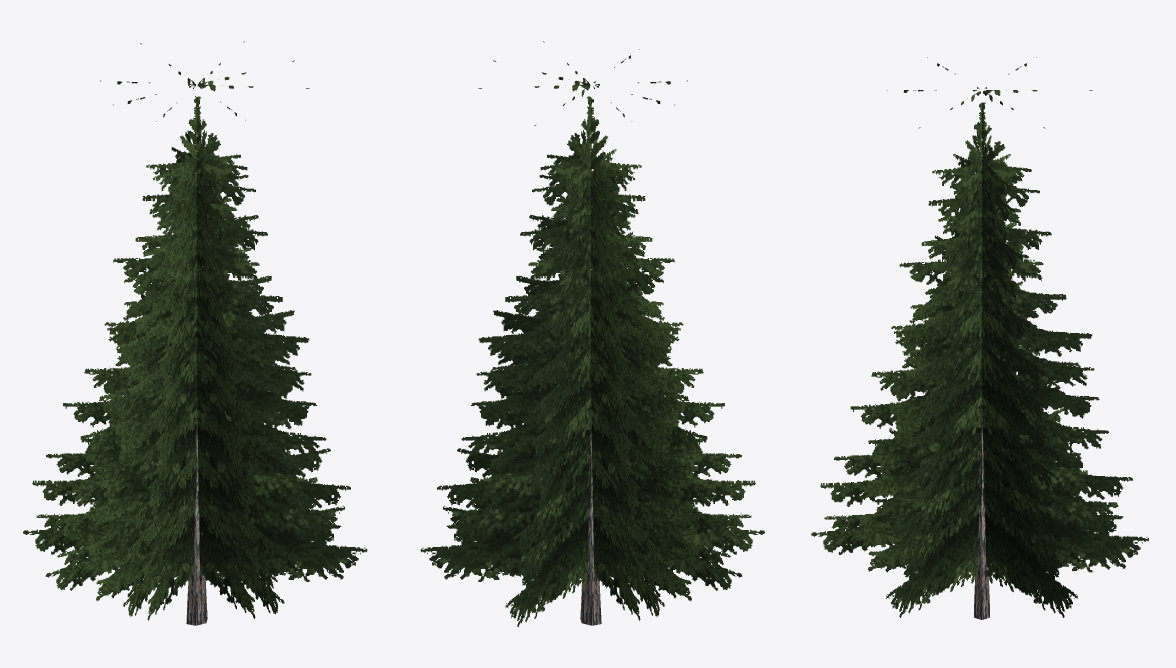
Rendered from small_tree.obj.
The picture shows the model from 3 angles, left to right: view 1: azimuth 30°, elevation 25°; view 2: azimuth 150°, elevation 25°; view 3: azimuth 270°, elevation 25°; orthographic projection. The views are drawn at different scales.
Visible parts, largest first — view 1: leaf, cone; view 2: leaf, cone; view 3: leaf, cone.
Part boxes in pixels (bbox=[...]): leaf: bbox=[23, 41, 367, 620]; cone: bbox=[186, 404, 207, 625]; leaf: bbox=[420, 41, 764, 626]; cone: bbox=[580, 404, 601, 625]; leaf: bbox=[811, 57, 1148, 617]; cone: bbox=[974, 400, 989, 619].
Size of the model in its own units: 2.75 by 4.44 by 2.75.
Materials: 2 (2 with a texture image).
